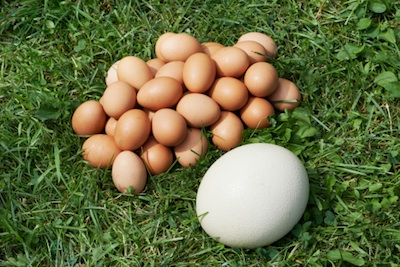Egg: (194, 139, 314, 253)
